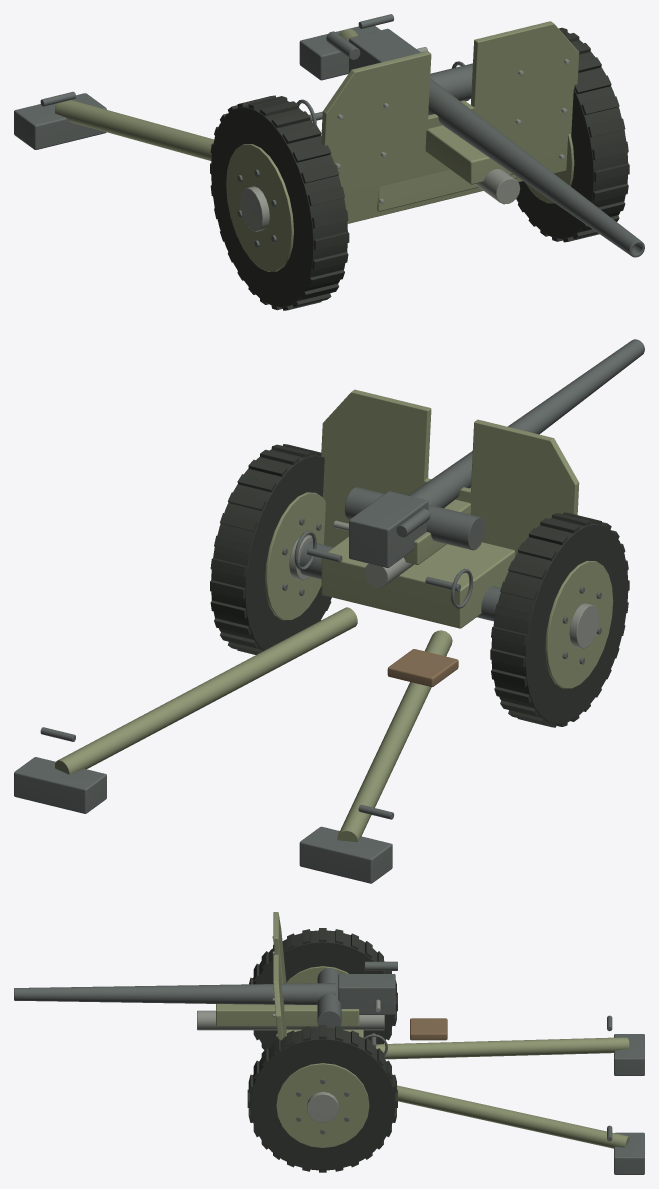
File: polish_bofors37.glb
3 views of the same model, one above another, from view 1: azimuth 30°, elevation 25°; view 2: azimuth 150°, elevation 25°; view 3: azimuth 270°, elevation 25° (orthographic). The views are drawn at different scales.
Parts seen in each view (by area): view 1: axle_saddle, tyre, tyre.001, open_barrel, pressed_steel_rim, trail_tube, ground_spade, ground_spade.001, axle, recoil_cylinder, hub_cap, pressed_steel_rim.002; view 2: axle_saddle, tyre, tyre.001, open_barrel, trail_tube.001, axle, pressed_steel_rim, pressed_steel_rim.002, trail_tube, ground_spade, ground_spade.001, gunner_seat (+2 smaller); view 3: tyre.001, open_barrel, pressed_steel_rim.002, tyre, trail_tube, axle_saddle, trail_tube.001, axle, recoil_cylinder, ground_spade.001, ground_spade, gunner_seat (+2 smaller).
Boxes of the visible parts, x1,y1,x2,y2 form: axle_saddle: [321, 21, 579, 223]; tyre: [210, 95, 349, 310]; tyre.001: [516, 27, 629, 242]; open_barrel: [349, 28, 644, 257]; pressed_steel_rim: [226, 144, 293, 271]; trail_tube: [55, 100, 214, 160]; ground_spade: [14, 91, 106, 149]; ground_spade.001: [299, 14, 393, 80]; axle: [296, 31, 472, 125]; recoil_cylinder: [335, 59, 569, 204]; hub_cap: [240, 186, 269, 231]; pressed_steel_rim.002: [525, 133, 574, 203]; axle_saddle: [321, 389, 579, 628]; tyre: [490, 512, 629, 727]; tyre.001: [210, 444, 331, 654]; open_barrel: [349, 339, 644, 567]; trail_tube.001: [55, 607, 357, 774]; axle: [294, 487, 500, 621]; pressed_steel_rim: [545, 560, 613, 688]; pressed_steel_rim.002: [265, 492, 325, 620]; trail_tube: [337, 630, 452, 842]; ground_spade: [299, 804, 393, 883]; ground_spade.001: [14, 727, 106, 813]; gunner_seat: [387, 649, 458, 687]; tyre.001: [247, 1025, 397, 1172]; open_barrel: [14, 974, 395, 1014]; pressed_steel_rim.002: [276, 1063, 369, 1147]; tyre: [249, 928, 397, 1049]; trail_tube: [376, 1037, 629, 1059]; axle_saddle: [216, 912, 363, 1040]; trail_tube.001: [397, 1085, 629, 1148]; axle: [317, 961, 397, 1055]; recoil_cylinder: [197, 936, 384, 1037]; ground_spade.001: [607, 1125, 644, 1174]; ground_spade: [607, 1015, 644, 1075]; gunner_seat: [410, 1018, 447, 1040].
Bounding box in the file's own units: 1.33 × 0.8605 × 2.86.
